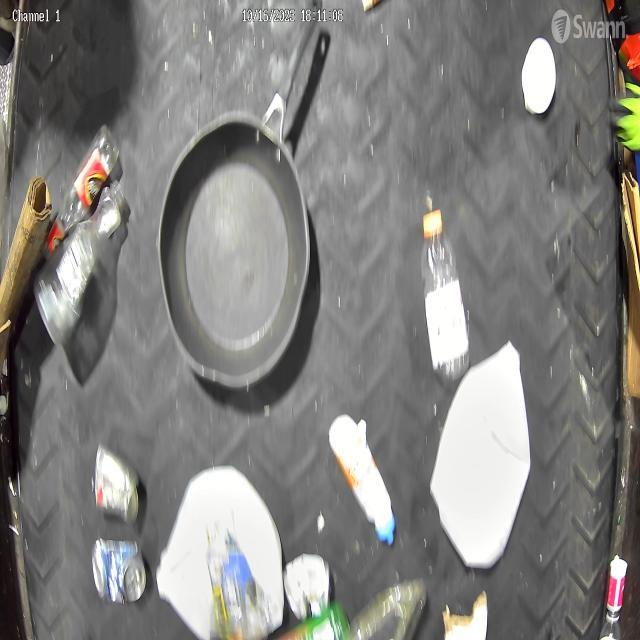can: (94, 442, 140, 528), (92, 532, 144, 604)
milk_jug: (429, 336, 531, 570), (158, 465, 282, 640)
plastic_bottle: (34, 188, 129, 340), (45, 120, 122, 252), (420, 204, 472, 380)
